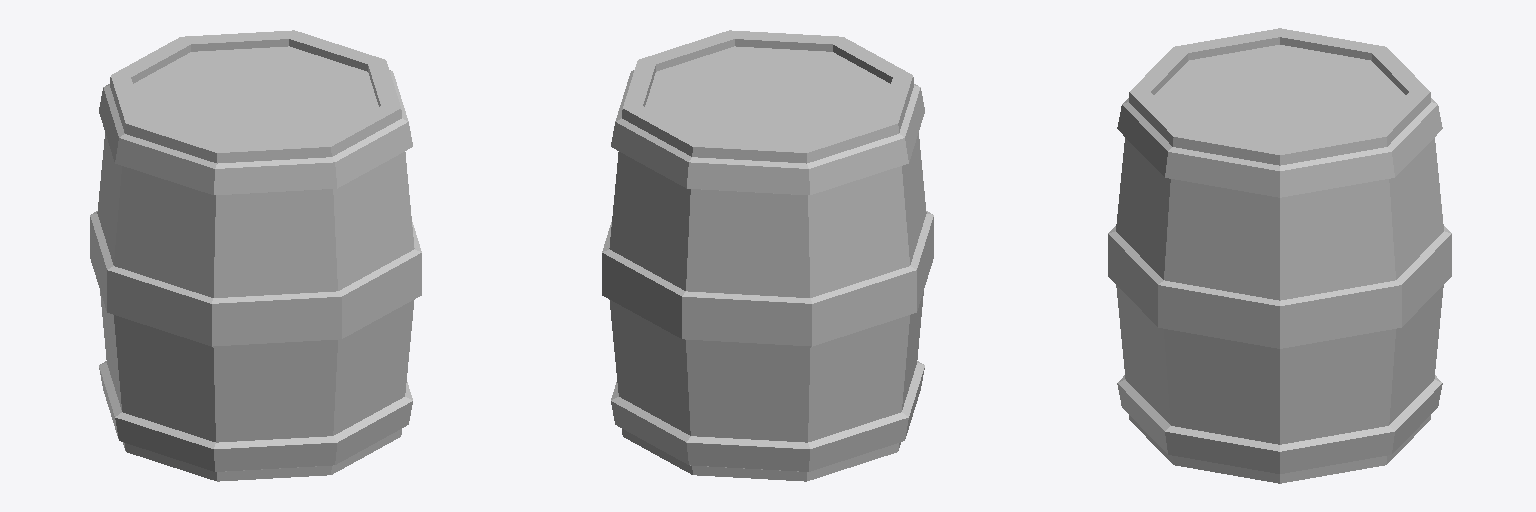
Rendered from barrel.obj.
3 views of the same model, side by side, from view 1: azimuth 30°, elevation 25°; view 2: azimuth 150°, elevation 25°; view 3: azimuth 270°, elevation 25° (orthographic).
Visible parts, largest first — view 1: Cylinder__15__Scene.005; view 2: Cylinder__15__Scene.005; view 3: Cylinder__15__Scene.005.
Part boxes in pixels (x1,y1,x2,y2): Cylinder__15__Scene.005: (90,30,421,481); Cylinder__15__Scene.005: (602,30,933,481); Cylinder__15__Scene.005: (1108,28,1451,483).
Bounding box in the file's own units: 1.14 × 1.2 × 1.14.